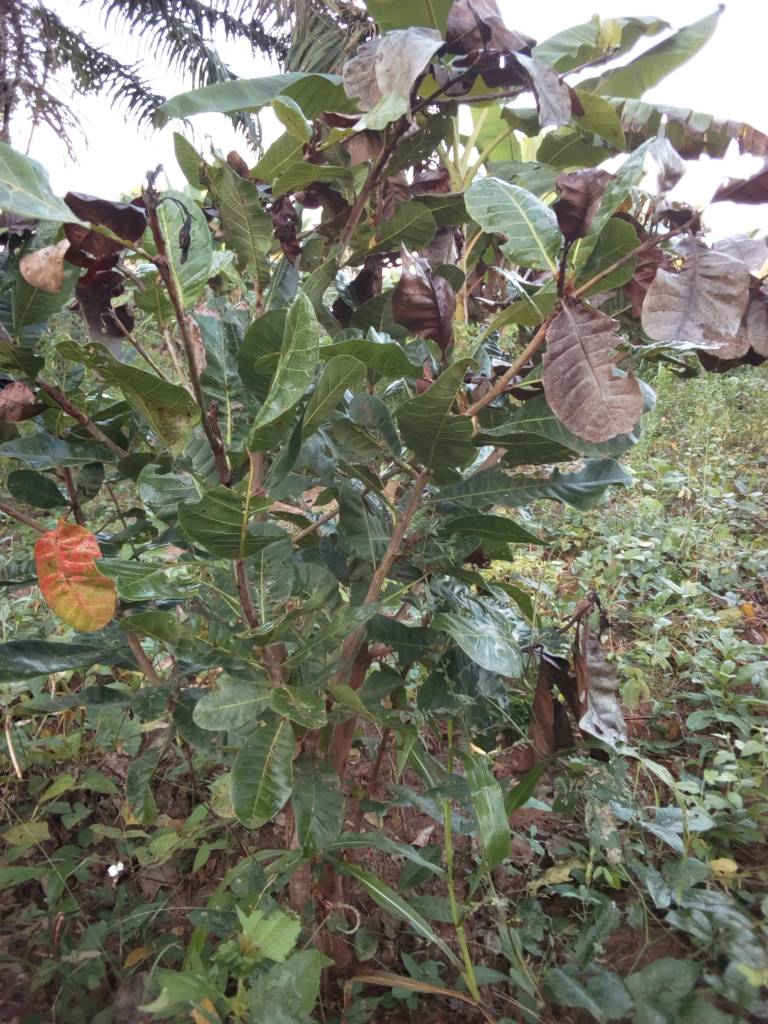Dessèchement des bourgeons: (526, 605, 628, 761), (450, 1, 538, 91)
